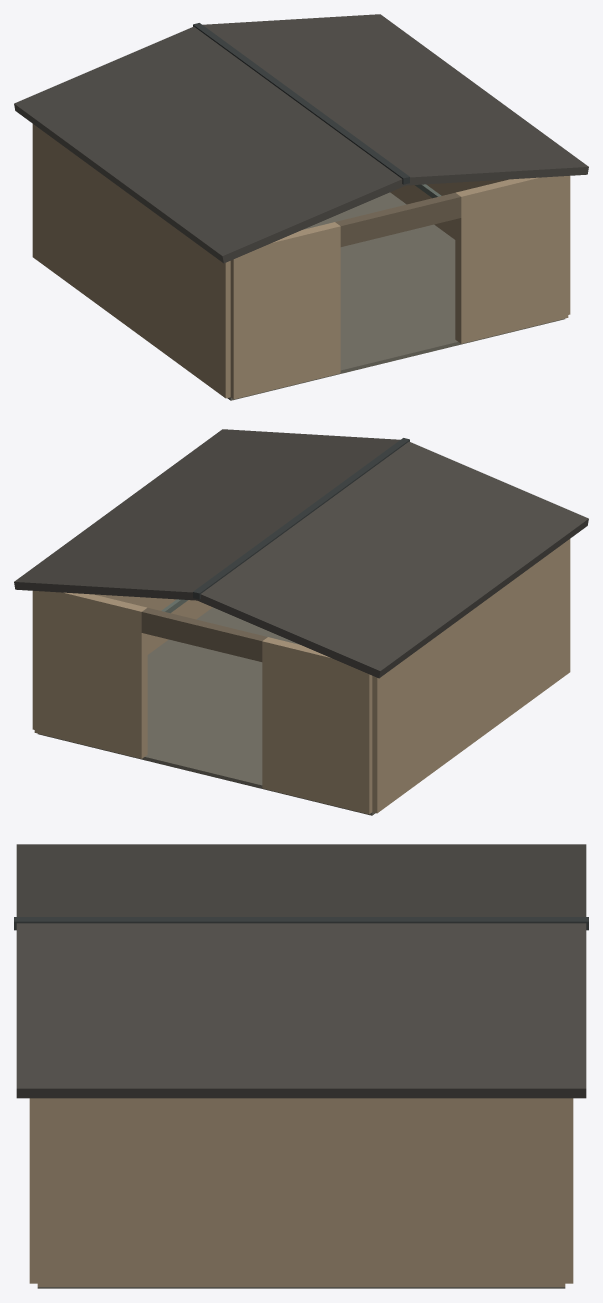
Rendered from ENV_Building.glb.
3 renders of one model, top to bottom at view 1: azimuth 30°, elevation 25°; view 2: azimuth 150°, elevation 25°; view 3: azimuth 270°, elevation 25°, orthographic. The views are drawn at different scales.
Parts seen in each view (by area): view 1: RoofLeft, RoofRight, WallWest, WallFrontR, WallFrontL, Floor, LintelFront, Ridge, WallEast; view 2: RoofLeft, RoofRight, WallWest, WallBackR, WallBackL, Floor, LintelBack, Ridge, WallEast; view 3: RoofRight, WallEast, RoofLeft, Ridge, WallFrontR, WallBackR, Floor.
Part boxes in pixels (left/top/right/bottom): RoofLeft: left=14, top=26, right=406, bottom=263; RoofRight: left=202, top=14, right=588, bottom=185; WallWest: left=32, top=124, right=230, bottom=398; WallFrontR: left=455, top=176, right=568, bottom=343; WallFrontL: left=230, top=222, right=340, bottom=399; Floor: left=227, top=192, right=564, bottom=400; LintelFront: left=335, top=192, right=461, bottom=246; Ridge: left=193, top=23, right=409, bottom=184; WallEast: left=390, top=176, right=570, bottom=314; RoofLeft: left=194, top=441, right=588, bottom=678; RoofRight: left=14, top=429, right=400, bottom=600; WallWest: left=372, top=539, right=570, bottom=813; WallBackR: left=34, top=591, right=147, bottom=758; WallBackL: left=262, top=637, right=372, bottom=814; Floor: left=38, top=607, right=375, bottom=815; LintelBack: left=141, top=607, right=267, bottom=661; Ridge: left=193, top=438, right=409, bottom=599; WallEast: left=32, top=591, right=212, bottom=729; RoofRight: left=16, top=923, right=586, bottom=1098; WallEast: left=37, top=1098, right=565, bottom=1286; RoofLeft: left=16, top=844, right=586, bottom=916; Ridge: left=14, top=917, right=588, bottom=930; WallFrontR: left=29, top=1098, right=37, bottom=1283; WallBackR: left=565, top=1098, right=573, bottom=1283; Floor: left=37, top=1287, right=565, bottom=1288.
Size of the model in its own units: 10.95 by 5.39 by 10.9.
